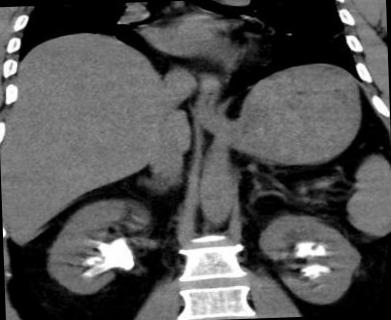Tas_Var: (75, 234, 138, 280), (290, 238, 329, 260), (296, 262, 336, 280), (84, 256, 96, 266), (91, 255, 105, 262)
